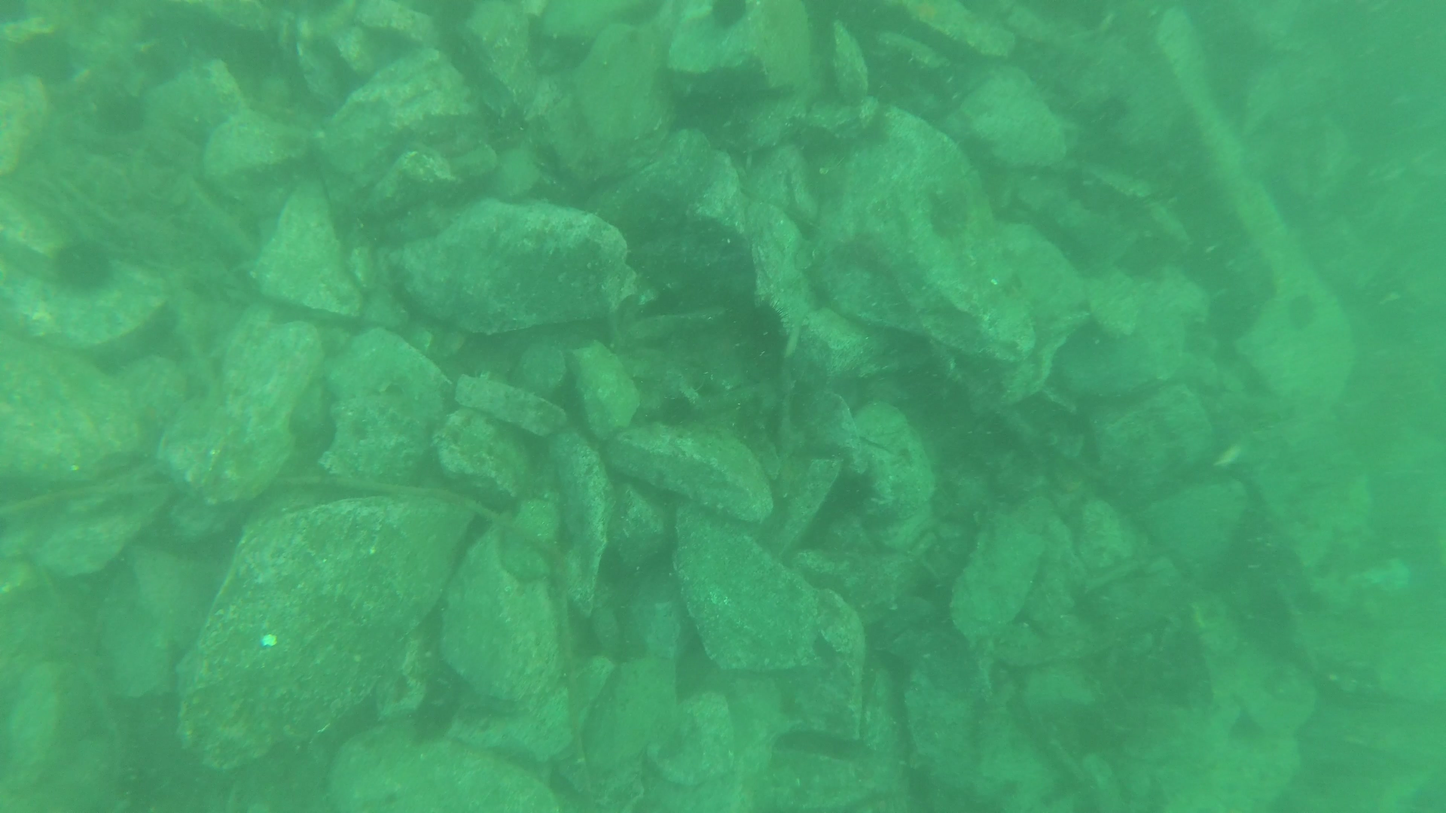starfish: (47, 232, 119, 293)
